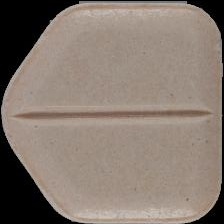61786-426: (0, 0, 224, 224)
